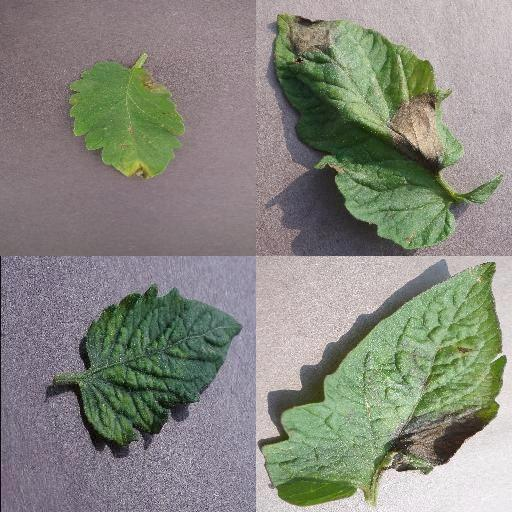Late Blight: (259, 259, 507, 507), (272, 12, 464, 250), (67, 60, 185, 182)
Mosaic Virus: (78, 284, 244, 450)
